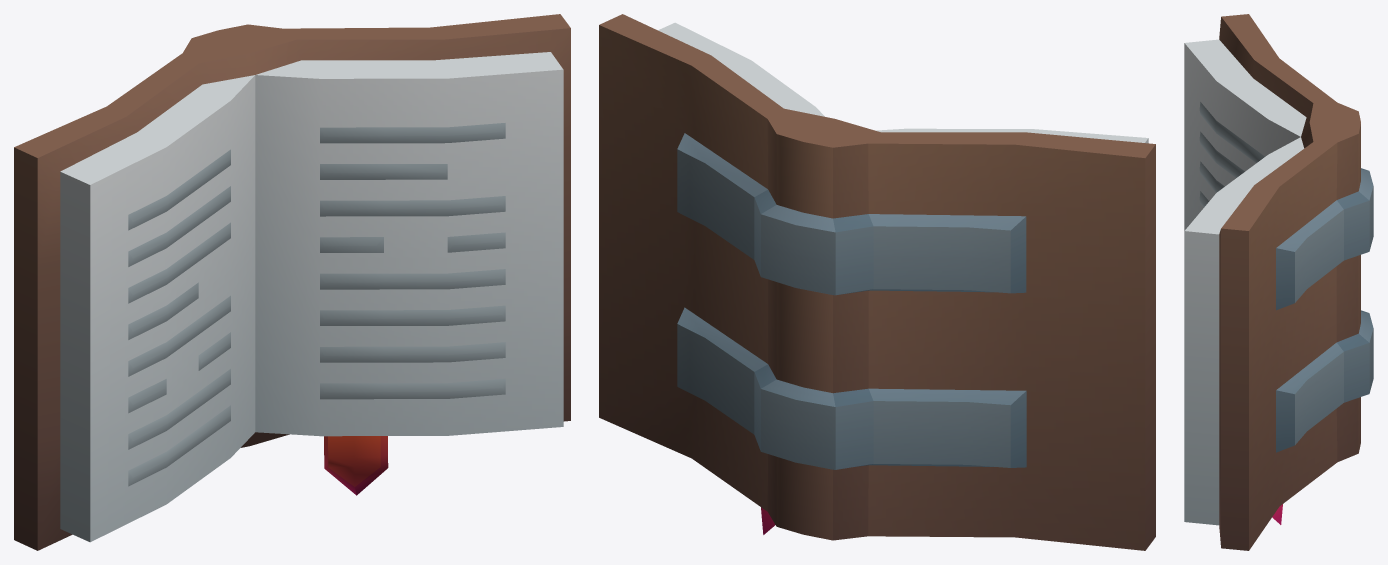
File: journal_open.fbx
3 views of the same model, side by side, from view 1: azimuth 30°, elevation 25°; view 2: azimuth 150°, elevation 25°; view 3: azimuth 270°, elevation 25° (orthographic). The views are drawn at different scales.
Visible parts, largest first — view 1: journal_open; view 2: journal_open; view 3: journal_open.
Part boxes in pixels (<box>): journal_open: <box>14,14,570,550</box>; journal_open: <box>599,14,1155,550</box>; journal_open: <box>1184,14,1373,550</box>.
Bounding box in the file's own units: 93.86 × 74.07 × 34.54.
